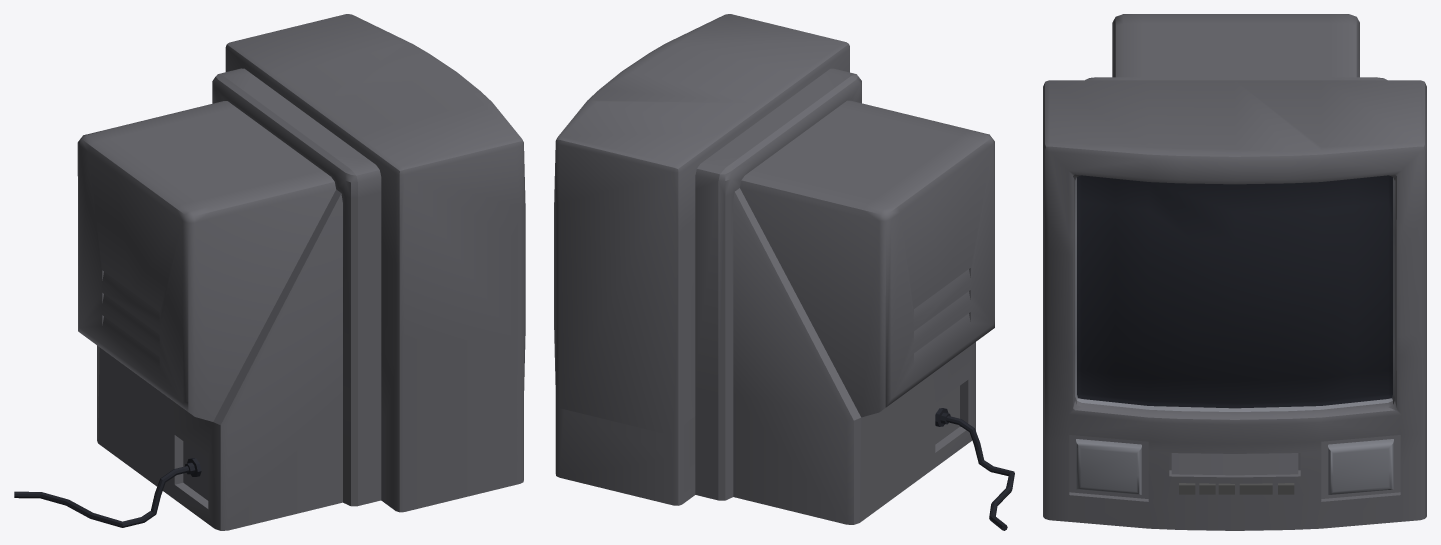
Rendered from tv-crt-07.glb.
The picture shows the model from 3 angles, left to right: view 1: azimuth 30°, elevation 25°; view 2: azimuth 150°, elevation 25°; view 3: azimuth 270°, elevation 25°; orthographic projection. The views are drawn at different scales.
Visible parts, largest first — view 1: Mesh_TV_CRT_07; view 2: Mesh_TV_CRT_07; view 3: Mesh_TV_CRT_07.
Part boxes in pixels (left/top/right/bottom): Mesh_TV_CRT_07: left=14, top=14, right=525, bottom=530; Mesh_TV_CRT_07: left=554, top=14, right=1014, bottom=530; Mesh_TV_CRT_07: left=1043, top=14, right=1426, bottom=530.
Size of the model in its own units: 0.8304 by 0.6515 by 0.6.
1 material, 1 textured.
